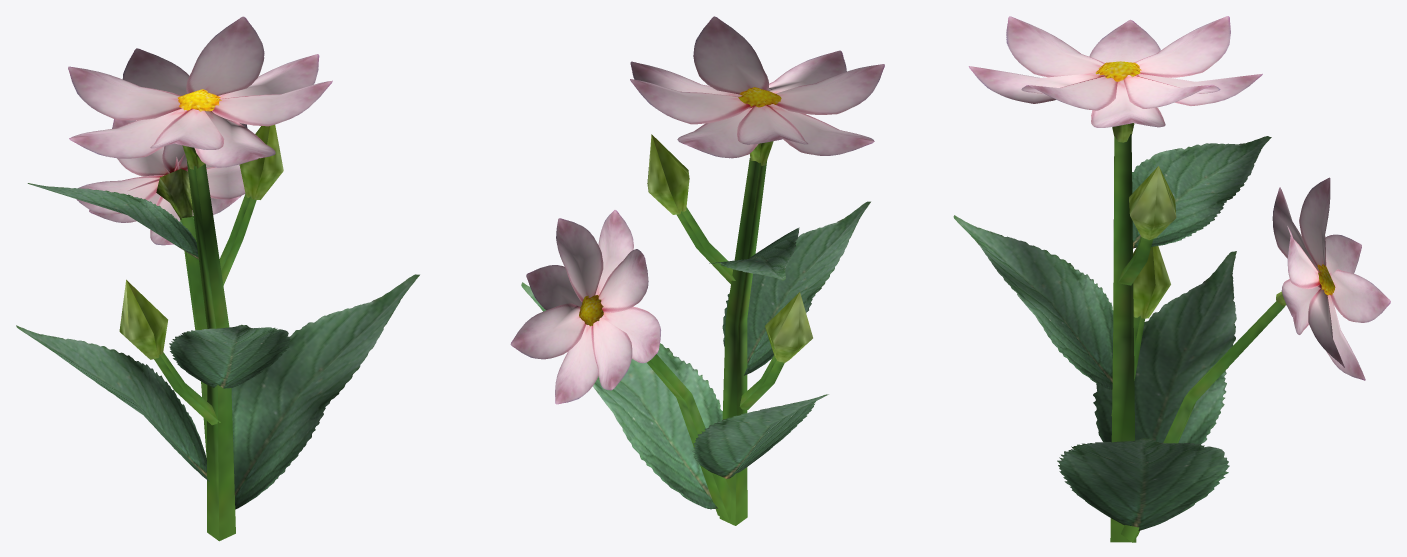
Rendered from whitef3.obj.
The picture shows the model from 3 angles, left to right: view 1: azimuth 30°, elevation 25°; view 2: azimuth 150°, elevation 25°; view 3: azimuth 270°, elevation 25°; orthographic projection. The views are drawn at different scales.
Parts seen in each view (by area): view 1: whiteflw03; view 2: whiteflw03; view 3: whiteflw03.
Boxes of the visible parts, left/top/right/bottom form: whiteflw03: left=16, top=16, right=419, bottom=541; whiteflw03: left=510, top=16, right=884, bottom=525; whiteflw03: left=953, top=16, right=1390, bottom=542.
Bounding box in the file's own units: 25.14 × 29.17 × 24.85.
Materials: 2 (2 with a texture image).
